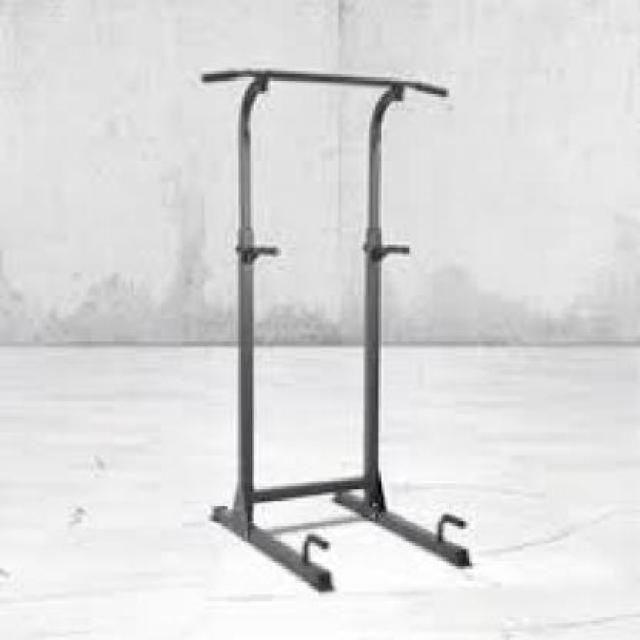chinning dipping: (198, 69, 476, 594)
